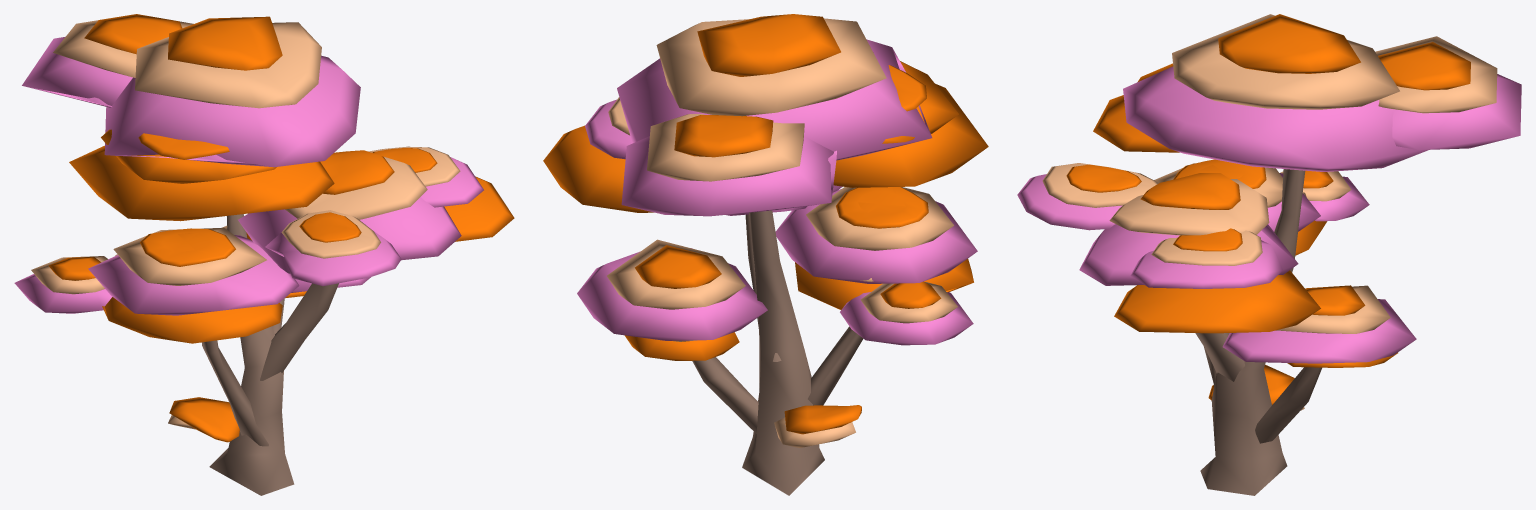
Rendered from C_Mushroom_3.fbx.
3 views of the same model, side by side, from view 1: azimuth 30°, elevation 25°; view 2: azimuth 150°, elevation 25°; view 3: azimuth 270°, elevation 25° (orthographic). The views are drawn at different scales.
Parts seen in each view (by area): view 1: Mushroom_3; view 2: Mushroom_3; view 3: Mushroom_3.
Part boxes in pixels (<box>): Mushroom_3: <box>14,14,514,495</box>; Mushroom_3: <box>543,14,988,495</box>; Mushroom_3: <box>1017,14,1521,495</box>.
Bounding box in the file's own units: 111 × 110 × 115.
